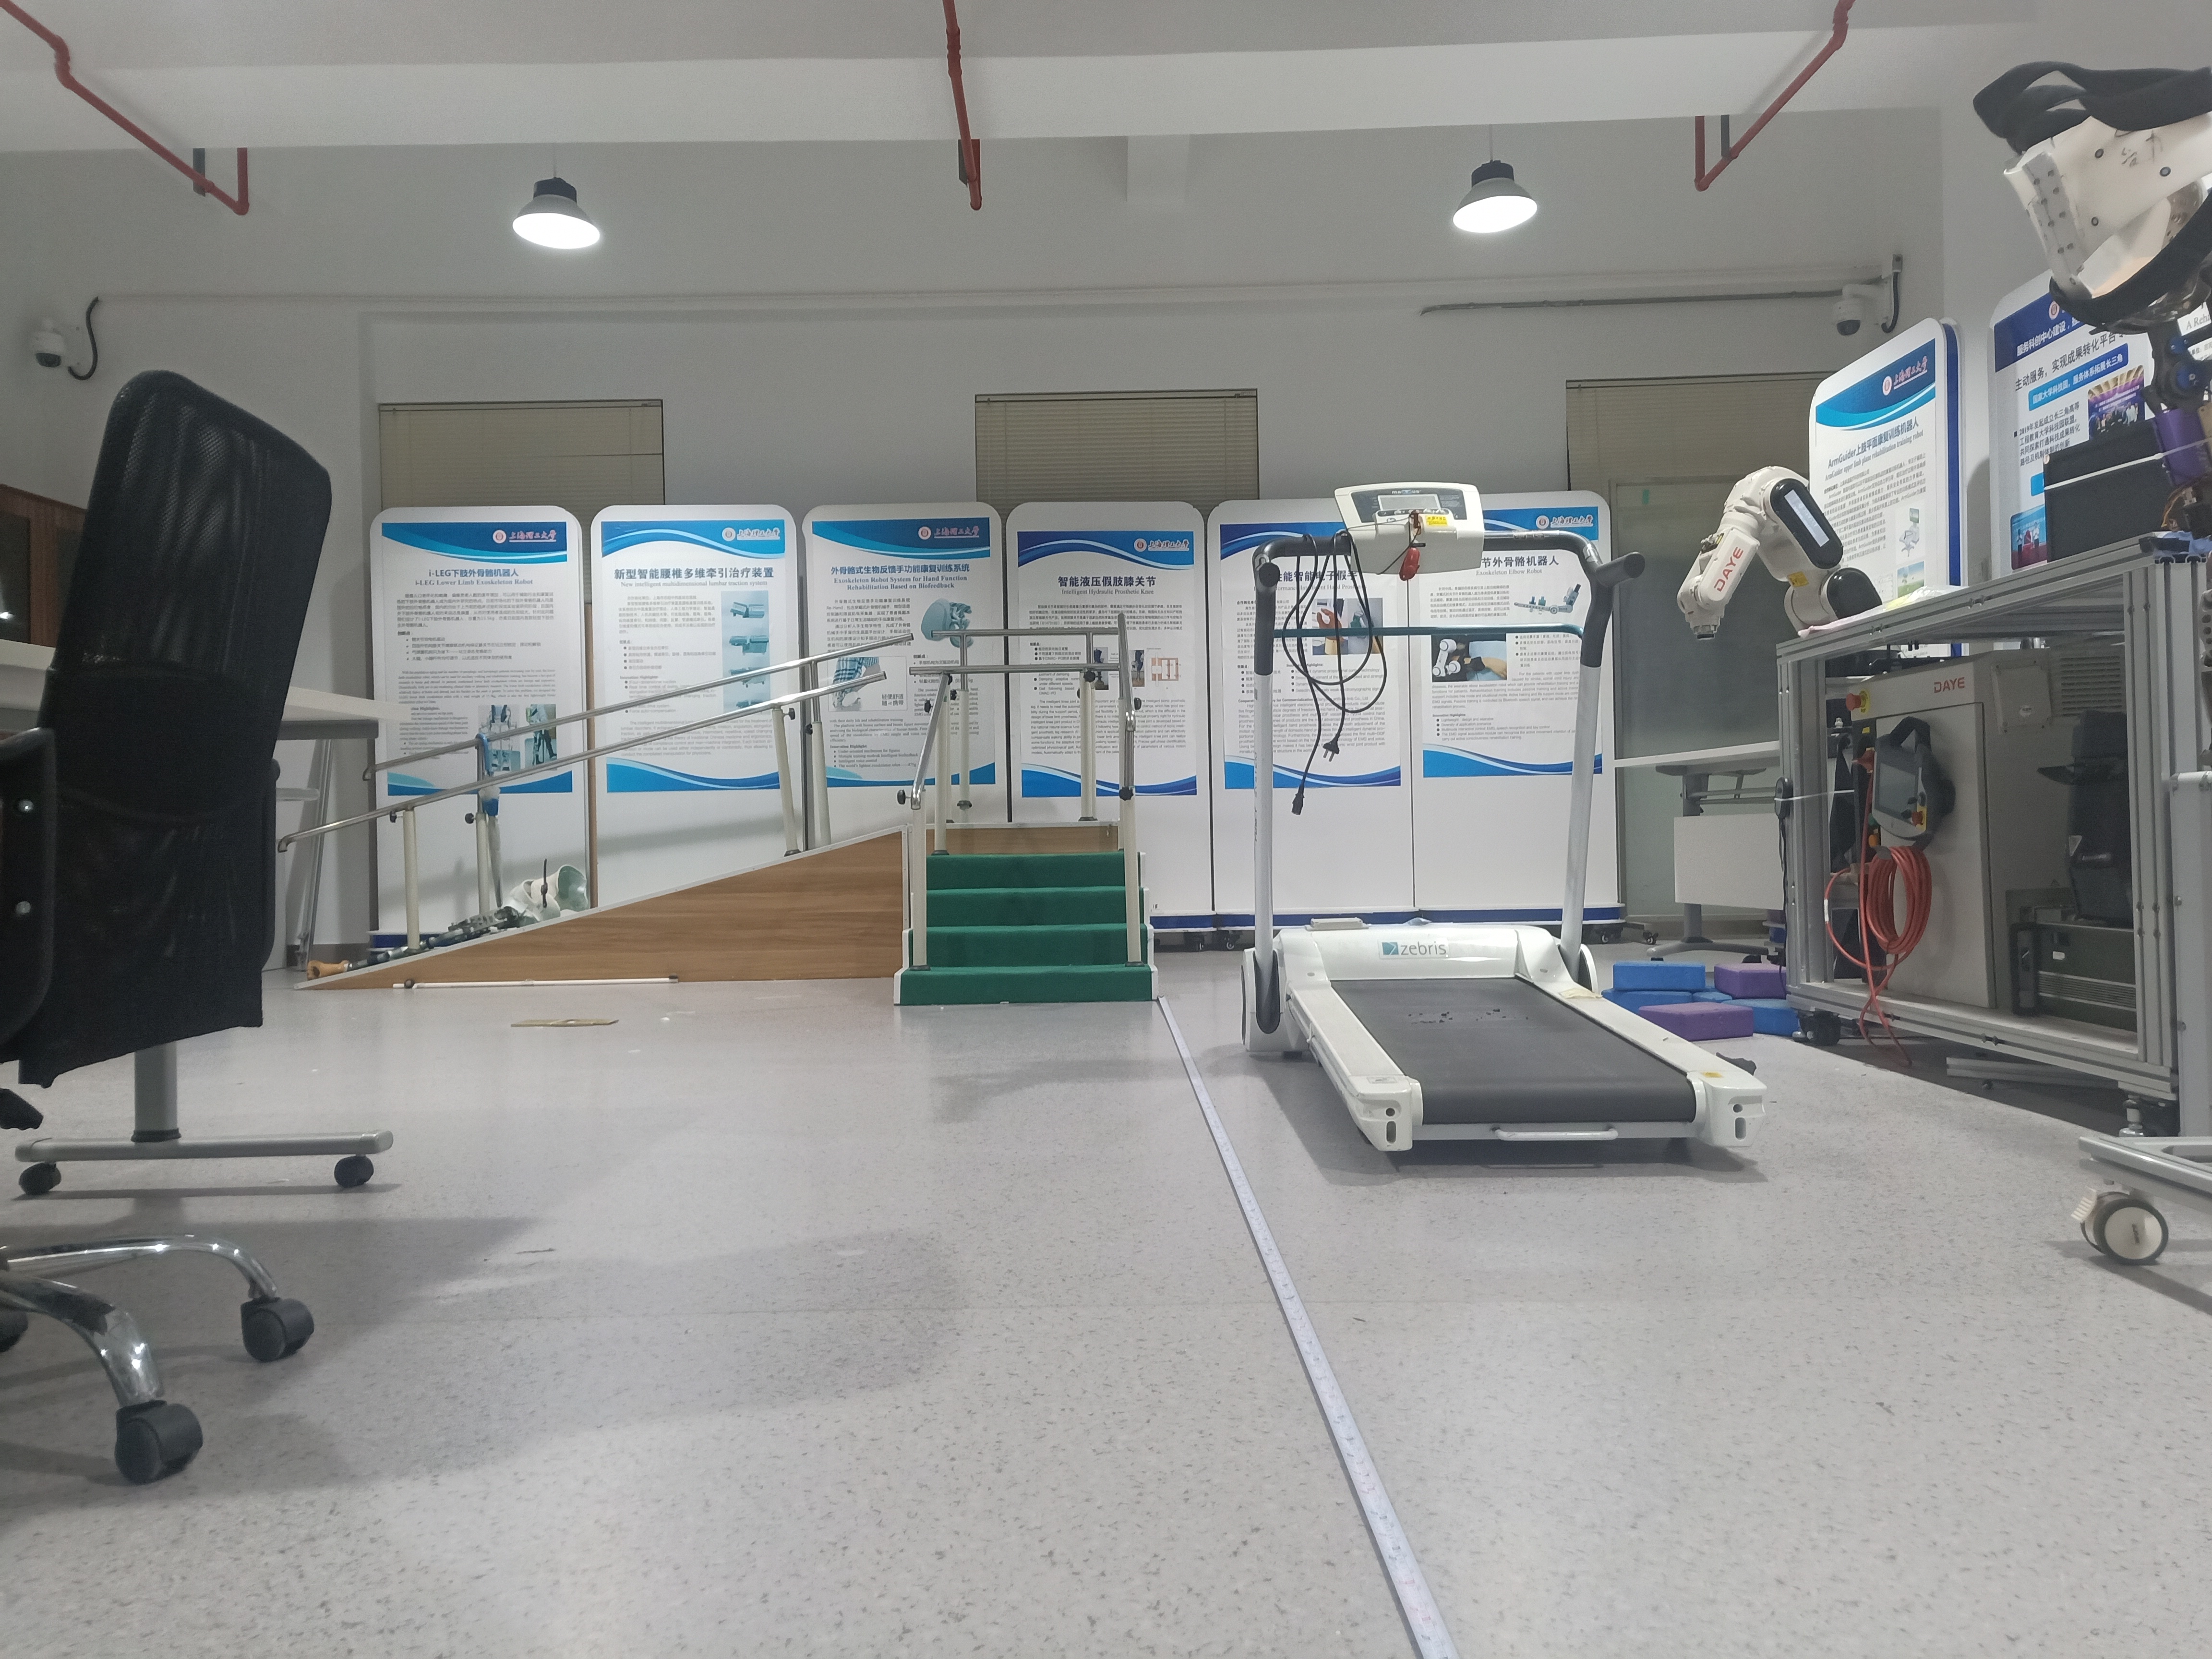stairs: (892, 812, 1155, 1009)
